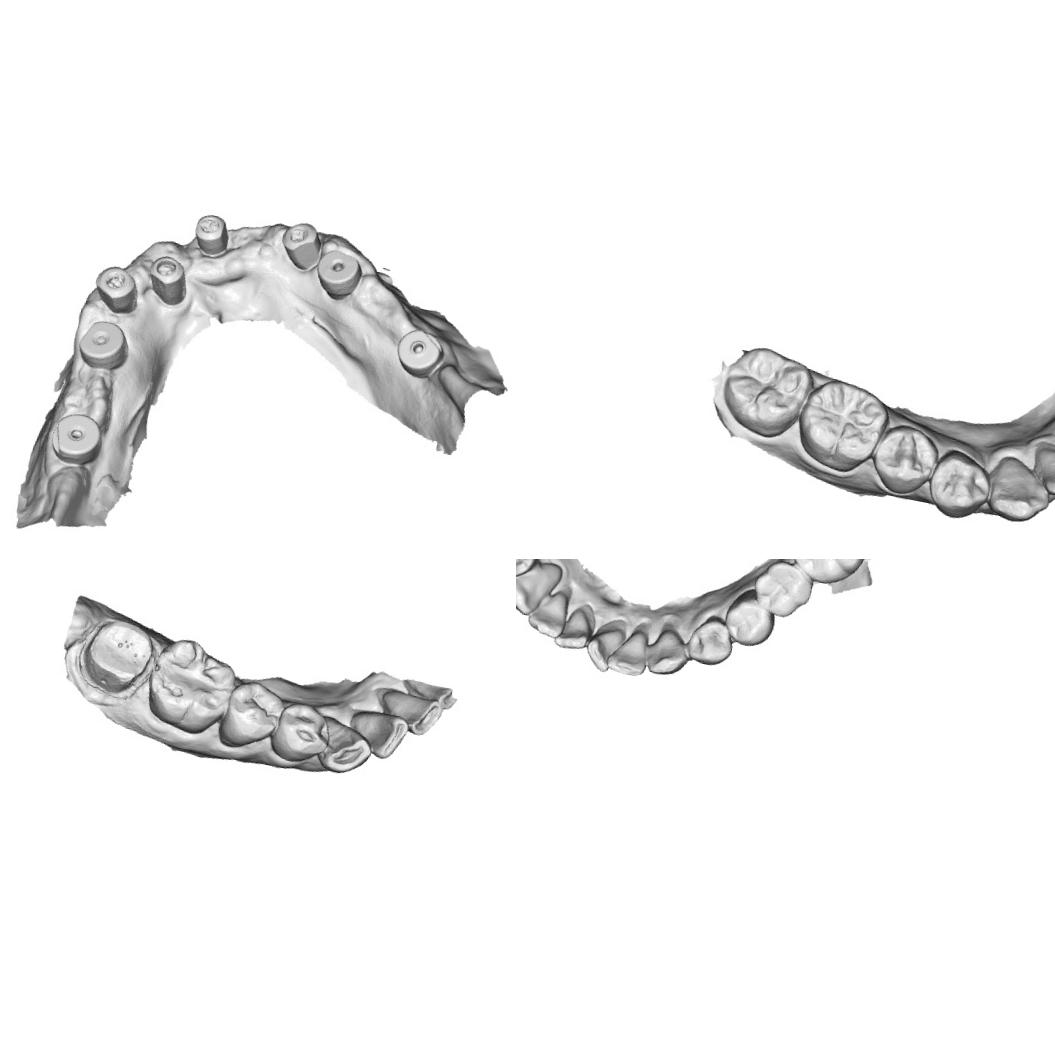canine: (980, 449, 1055, 529), (312, 712, 376, 778), (516, 559, 565, 622), (643, 624, 691, 680)
crown: (68, 607, 164, 704)
implant: (45, 407, 105, 467), (390, 322, 446, 378), (76, 314, 131, 371), (274, 218, 326, 274), (89, 260, 141, 316), (312, 246, 365, 300), (144, 252, 190, 306), (188, 208, 233, 258)
incisor: (342, 706, 410, 764), (374, 687, 446, 740), (603, 623, 654, 679), (523, 584, 573, 641), (550, 602, 599, 654), (580, 620, 626, 675), (1031, 443, 1055, 501)
molar: (137, 630, 239, 742), (790, 372, 895, 480), (714, 338, 815, 444), (747, 559, 818, 622), (783, 559, 871, 590)
premolar: (865, 419, 940, 499), (218, 674, 285, 756), (924, 447, 993, 525), (266, 696, 333, 769), (717, 584, 780, 652), (682, 610, 738, 670), (516, 559, 544, 582)
